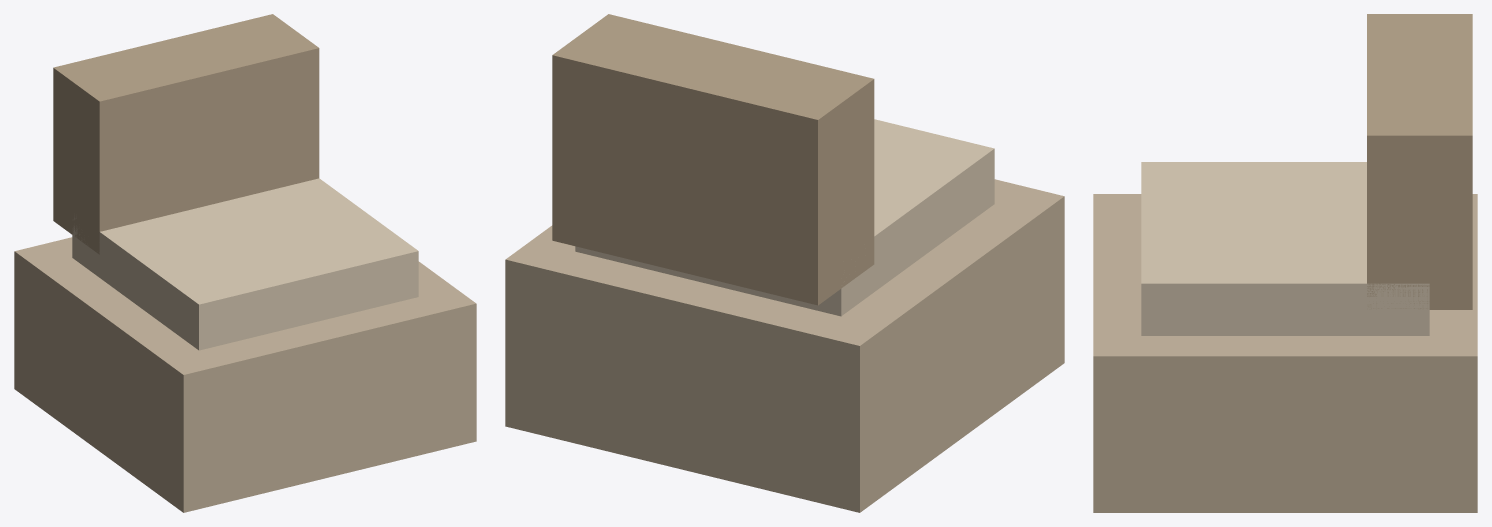
File: beanbag.glb
3 renders of one model, left to right at view 1: azimuth 30°, elevation 25°; view 2: azimuth 150°, elevation 25°; view 3: azimuth 270°, elevation 25°, orthographic. The views are drawn at different scales.
Visible parts, largest first — view 1: beanbag; view 2: beanbag; view 3: beanbag.
Part boxes in pixels (x1=…): beanbag: x1=14, y1=14, x2=476, y2=512; beanbag: x1=505, y1=14, x2=1064, y2=512; beanbag: x1=1093, y1=14, x2=1477, y2=512.
Bounding box in the file's own units: 0.8 × 0.82 × 0.8.
